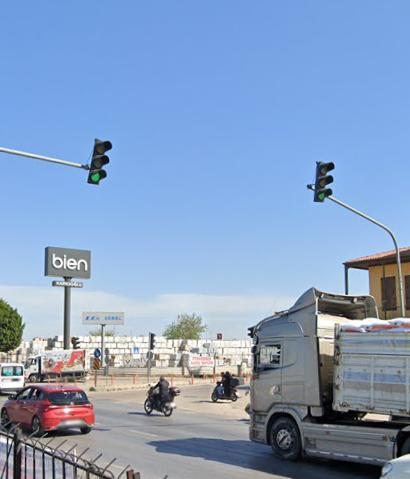greenlight: (89, 138, 111, 184), (314, 161, 333, 201)
